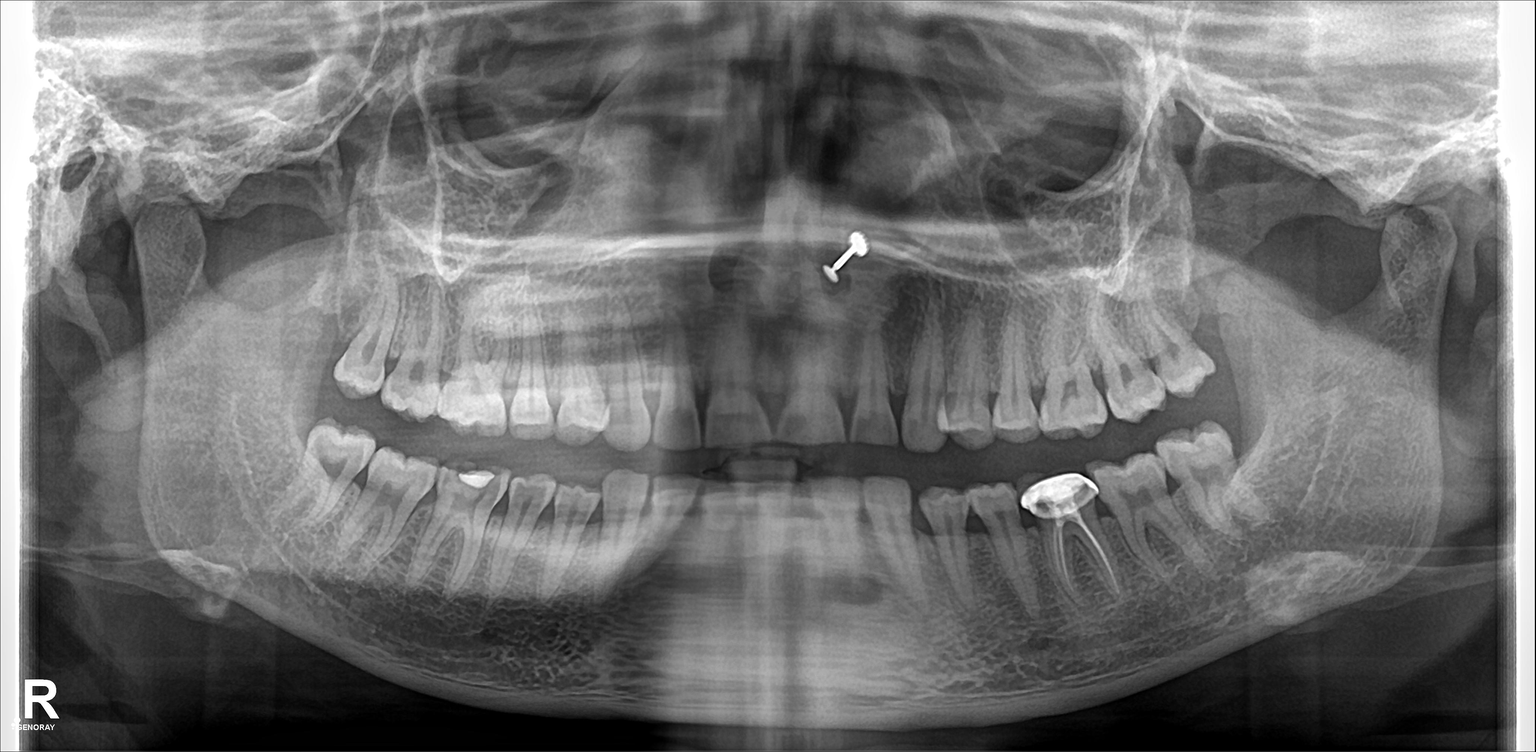Endodontically Treated Tooth: (1019, 469, 1098, 611)
